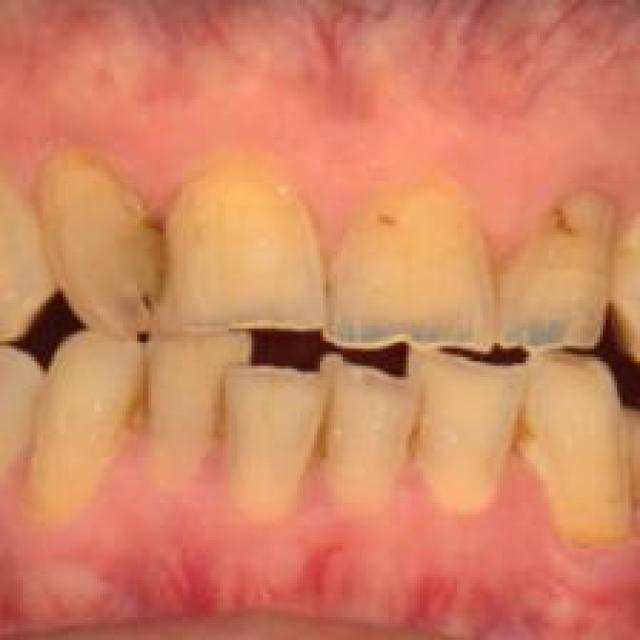cavity: (123, 211, 174, 326), (374, 206, 440, 251), (546, 192, 597, 248), (197, 377, 240, 437), (126, 360, 157, 437), (309, 386, 337, 466), (503, 392, 537, 457), (397, 400, 432, 457)
